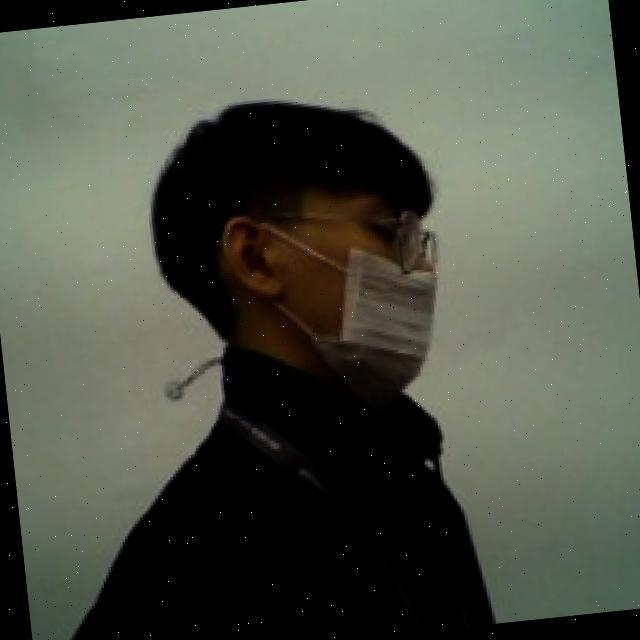mask: (224, 200, 451, 430)
no_gloves: (132, 80, 446, 340)
